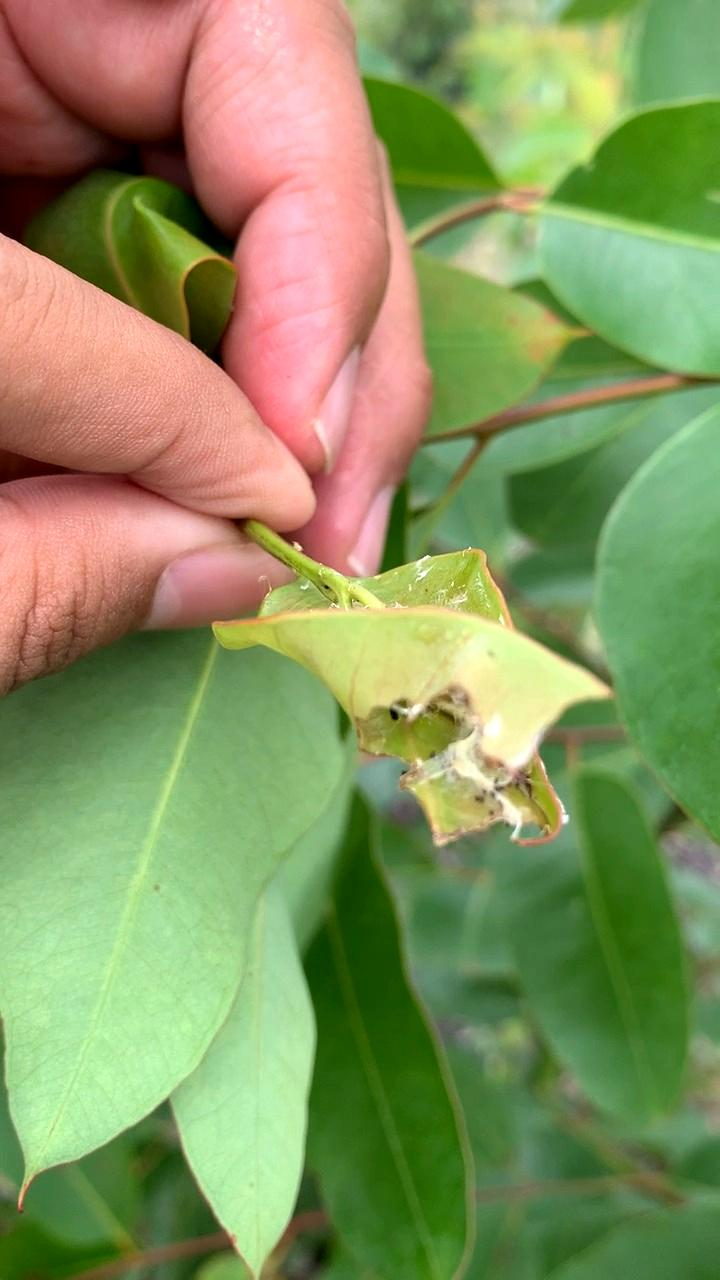Leaf Roller - Leaf: (195, 533, 638, 859)
